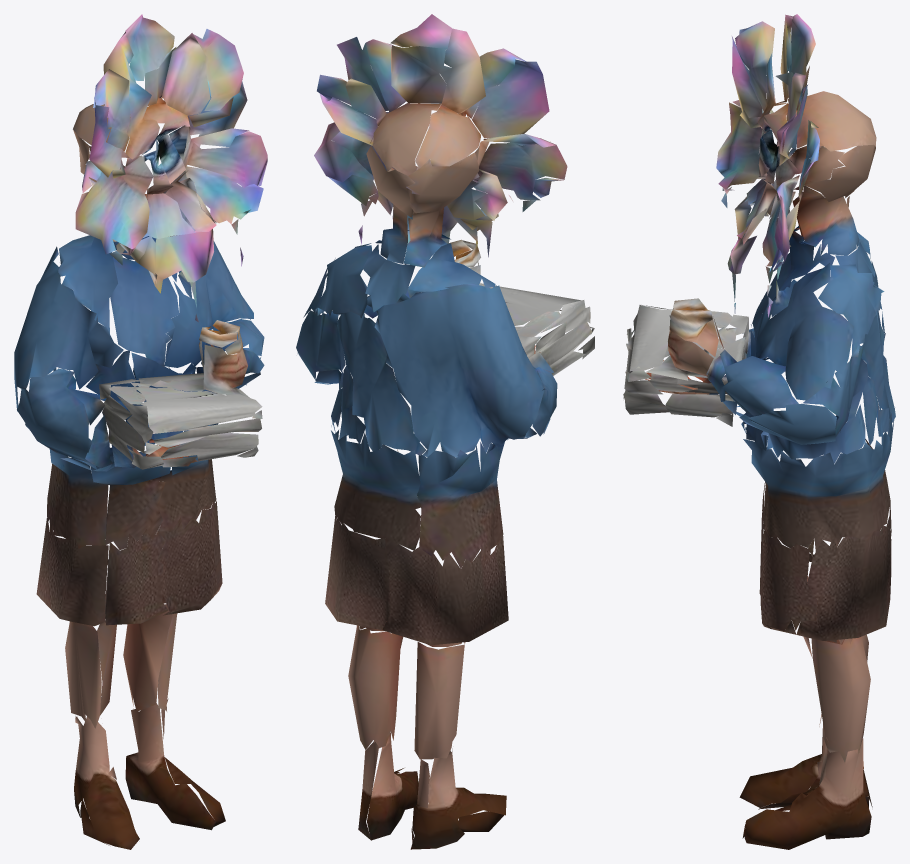
File: crowd_assistant_full.glb
The picture shows the model from 3 angles, left to right: view 1: azimuth 30°, elevation 25°; view 2: azimuth 150°, elevation 25°; view 3: azimuth 270°, elevation 25°; orthographic projection.
Parts seen in each view (by area): view 1: tripo_node_583bd843-d0c9-4fd2-bfd0-3545a6174963; view 2: tripo_node_583bd843-d0c9-4fd2-bfd0-3545a6174963; view 3: tripo_node_583bd843-d0c9-4fd2-bfd0-3545a6174963.
Boxes of the visible parts, x1,y1,x2,y2 form: tripo_node_583bd843-d0c9-4fd2-bfd0-3545a6174963: (14,14,267,849); tripo_node_583bd843-d0c9-4fd2-bfd0-3545a6174963: (296,14,594,849); tripo_node_583bd843-d0c9-4fd2-bfd0-3545a6174963: (623,14,895,849).
Size of the model in its own units: 0.311 by 1 by 0.3066.
Materials: 1 (1 with a texture image).
